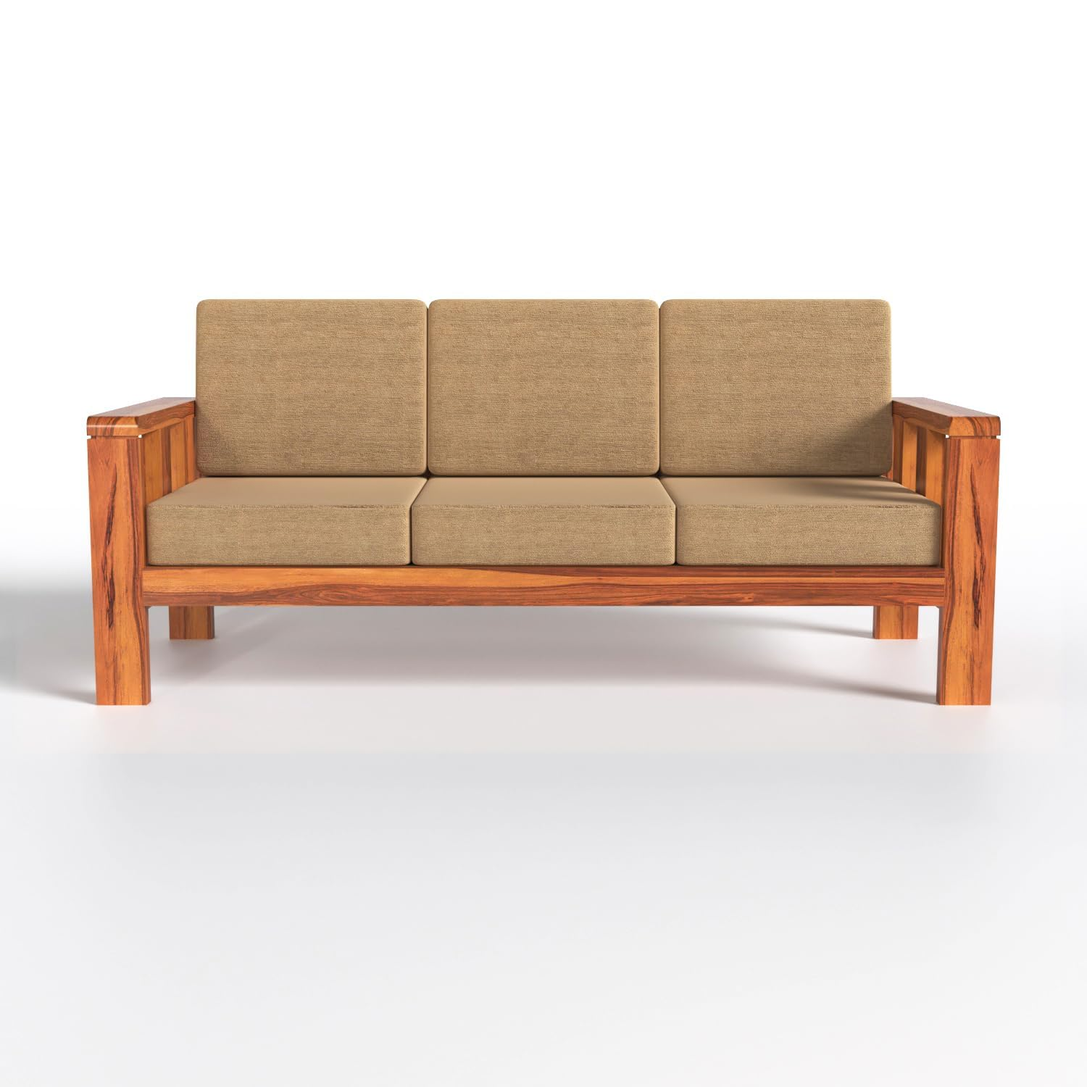3seatersofa: (86, 299, 999, 704)
backrest: (196, 300, 888, 475)
base: (143, 566, 950, 607)
leftarmrest: (892, 398, 1000, 437)
leg: (92, 411, 196, 703), (891, 418, 995, 708), (172, 609, 213, 643), (879, 609, 915, 635)
rightarmrest: (87, 393, 194, 436)
seat: (147, 477, 941, 566)
